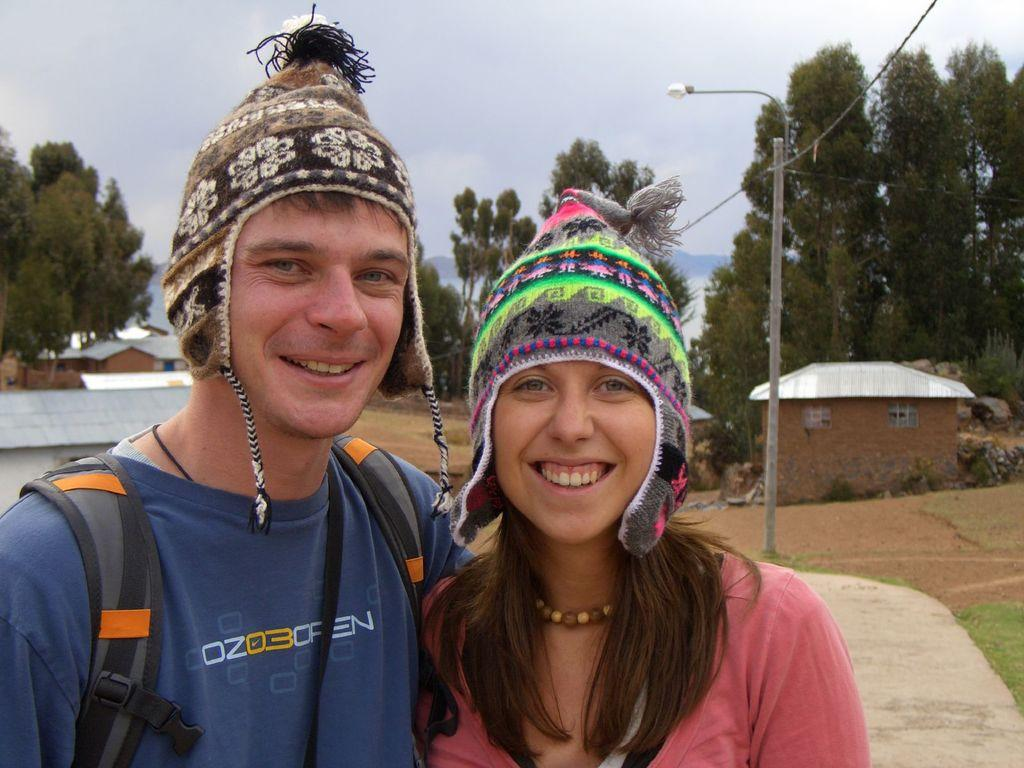Hat: (460, 140, 716, 578)
